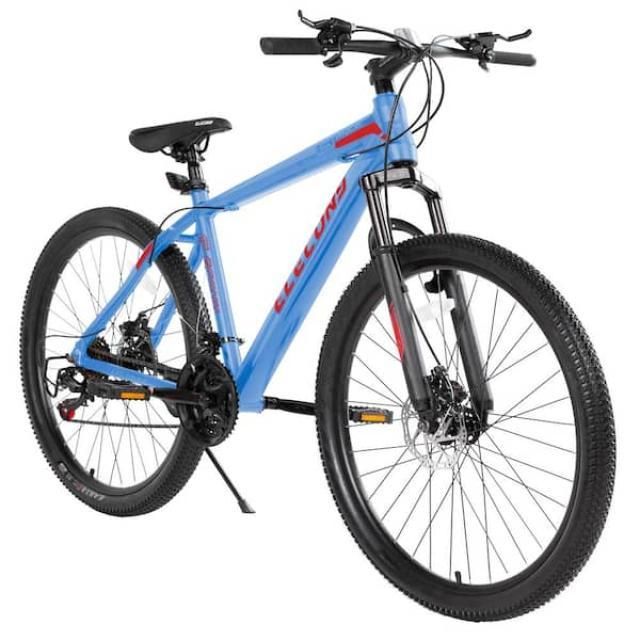bike: (19, 8, 617, 622)
